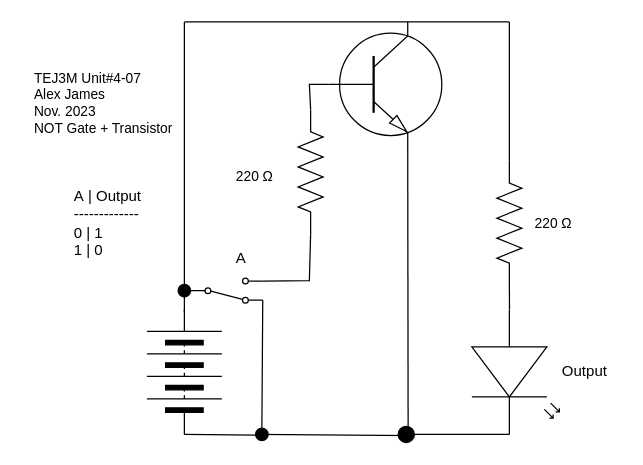
The diagram is 643 pixels wide and 465 high, and some of its shapes have lost their labels. Each missing label, with the centre of its shape:
+5 V: the point at 184,371
LED: the point at 515,371
